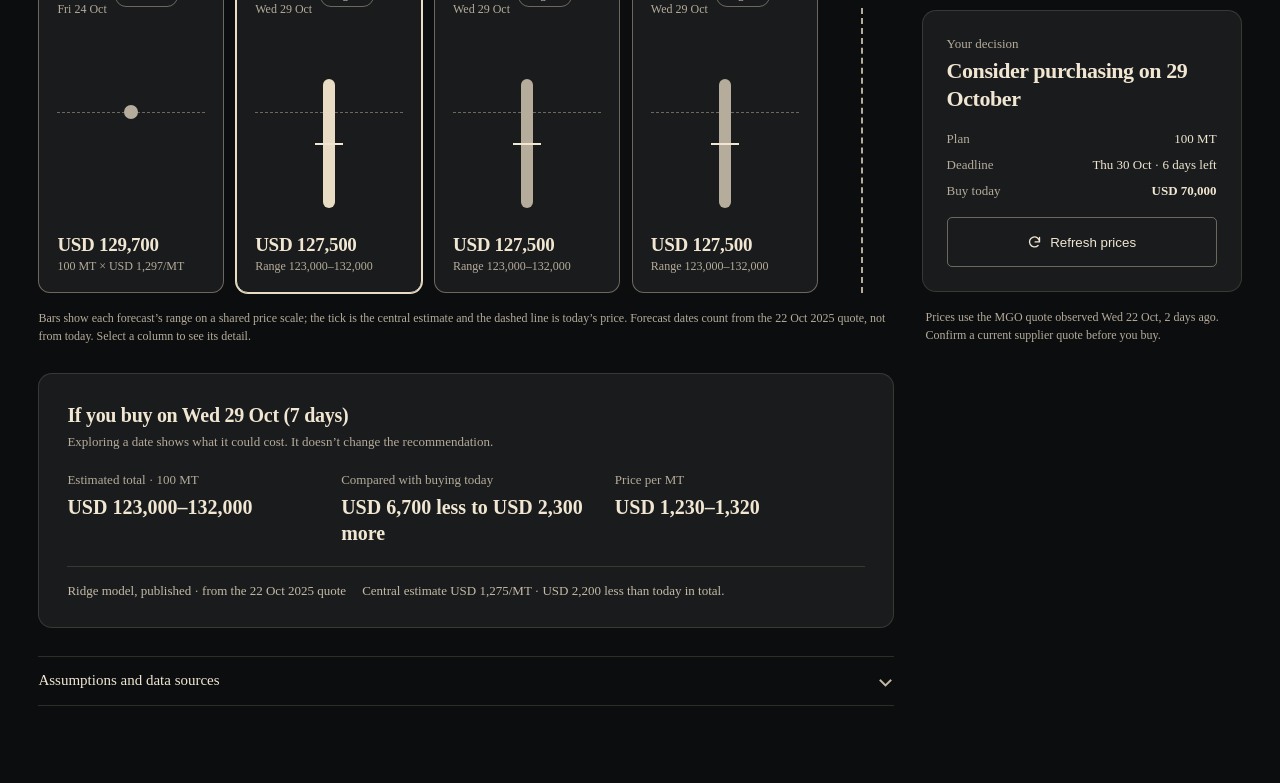
Test case: identifies a published Ridge result separately from the last-quote fallback
(page scrolled)
Click the heading "Assumptions and data sources": (129, 680) x1=38 y1=672 x2=220 y2=688
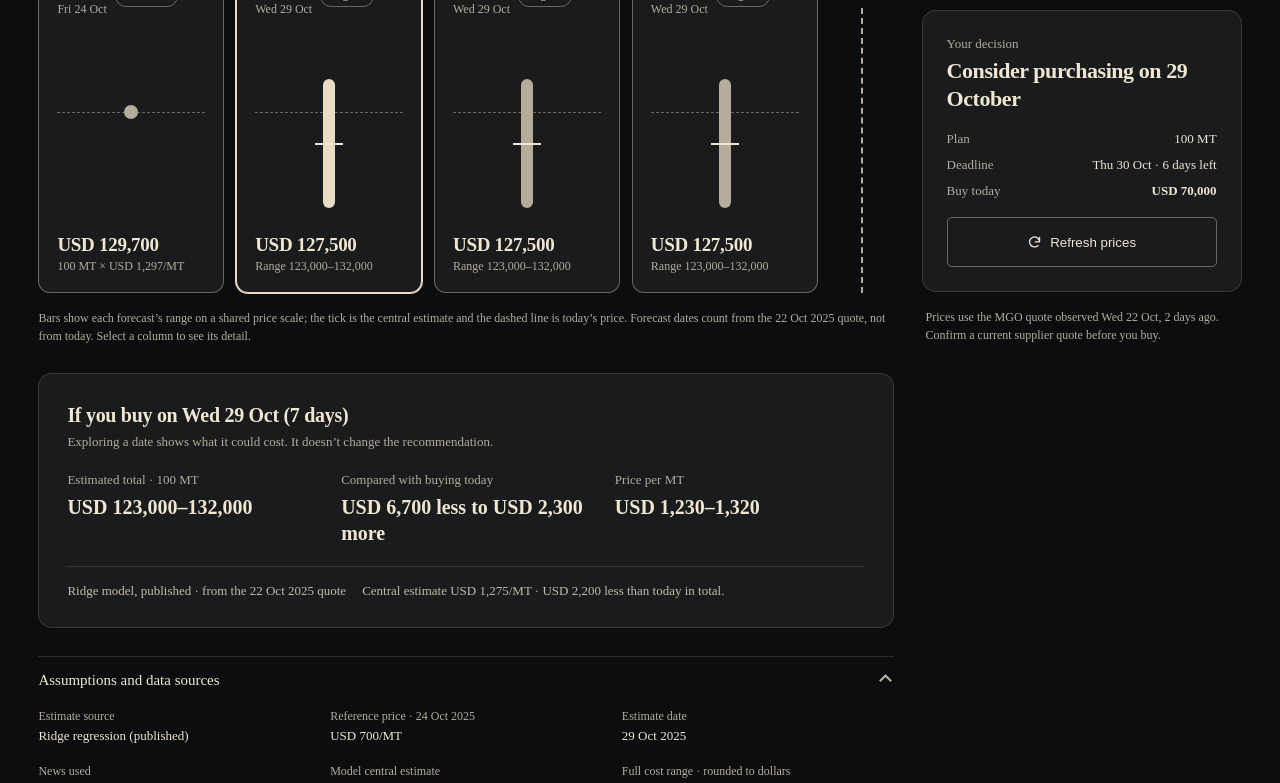
Expected: the text "Ridge regression (published)" is shown, x1=38 y1=728 x2=189 y2=743
